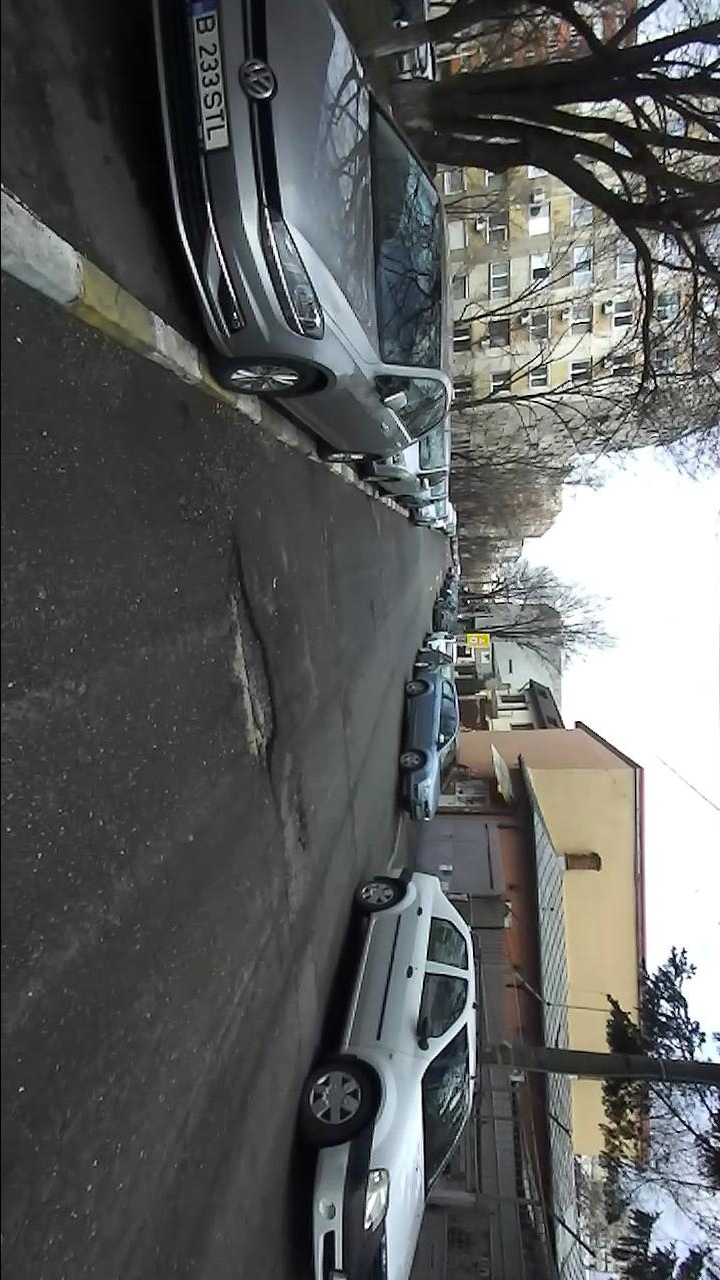pothole: (224, 539, 284, 819), (292, 776, 318, 858)
